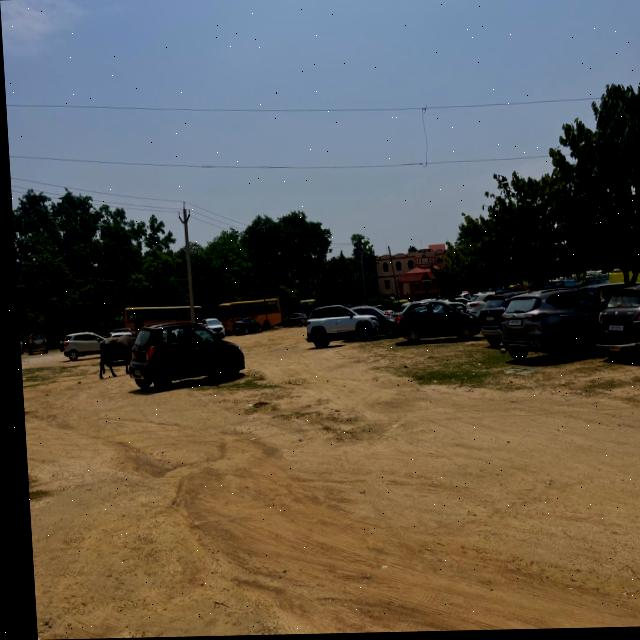bus: (116, 301, 202, 333), (212, 296, 280, 332), (294, 298, 314, 315)
car: (122, 314, 241, 408), (494, 288, 599, 364), (387, 300, 475, 351), (590, 285, 640, 367), (299, 305, 375, 357), (56, 324, 113, 368), (473, 294, 513, 354), (348, 299, 391, 344), (461, 294, 490, 321), (198, 316, 224, 343), (229, 318, 261, 338), (21, 331, 46, 356), (278, 312, 304, 332)
